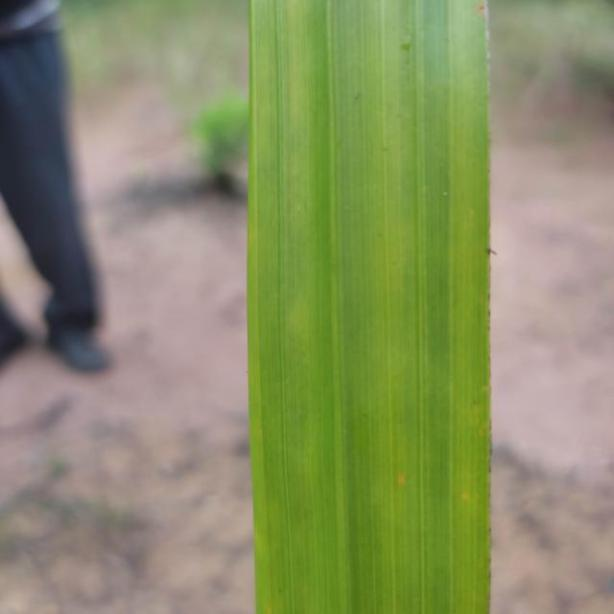nitrogen: (240, 0, 494, 614)
